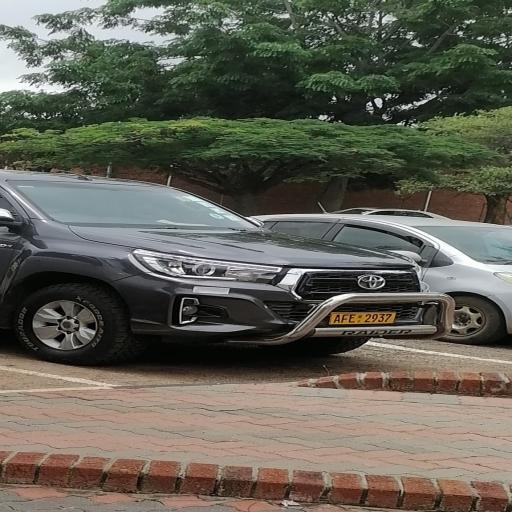number-plates: (325, 307, 401, 326)
